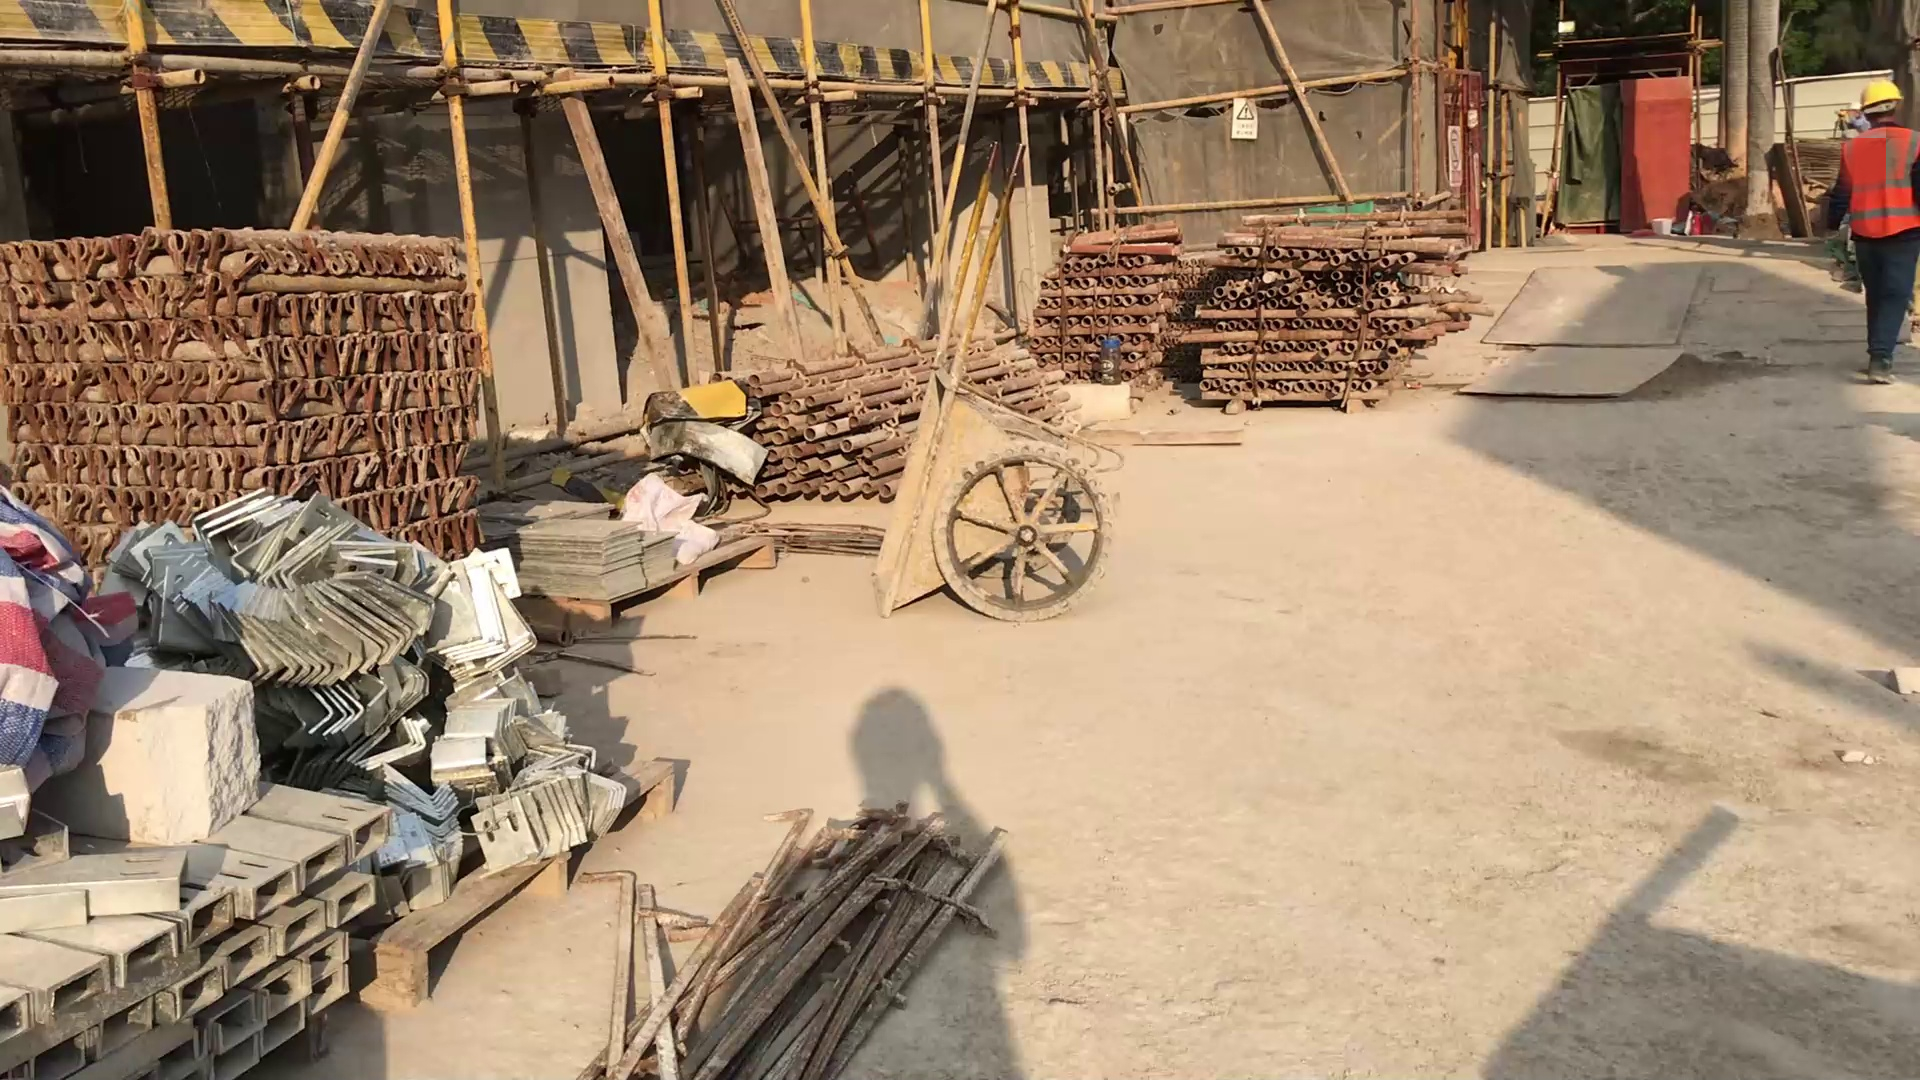handcart: (866, 138, 1130, 625)
helmet: (1857, 74, 1901, 117)
person: (1814, 79, 1920, 386)
scaffold: (1, 220, 492, 557), (722, 328, 1071, 495), (1194, 208, 1477, 398), (1024, 219, 1199, 379)
slogan: (1228, 94, 1257, 141), (1446, 120, 1466, 187)
vest: (1835, 124, 1920, 239)
